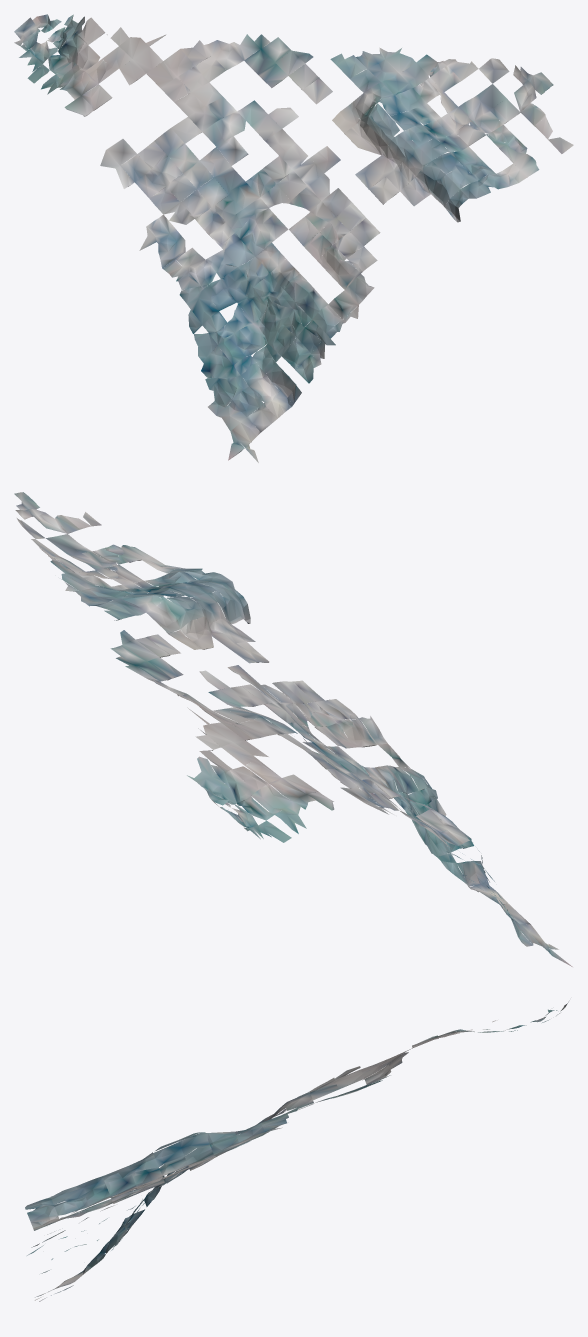
The model's file is hkust_piazza_cropped.glb.
3 views of the same model, one above another, from view 1: azimuth 30°, elevation 25°; view 2: azimuth 150°, elevation 25°; view 3: azimuth 270°, elevation 25° (orthographic). The views are drawn at different scales.
Parts seen in each view (by area): view 1: world; view 2: world; view 3: world.
Part boxes in pixels (<box>): world: <box>14,14,573,462</box>; world: <box>14,492,572,966</box>; world: <box>25,1000,569,1301</box>.
Size of the model in its own units: 58.4 by 44.13 by 66.23.
